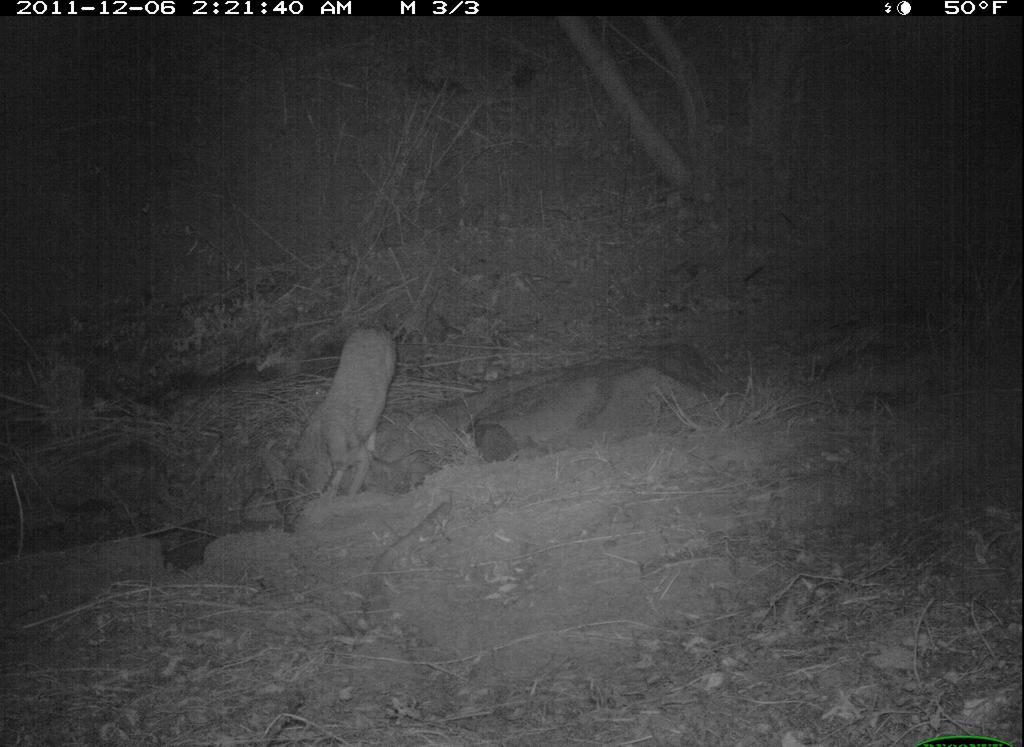coyote: (260, 318, 404, 543)
